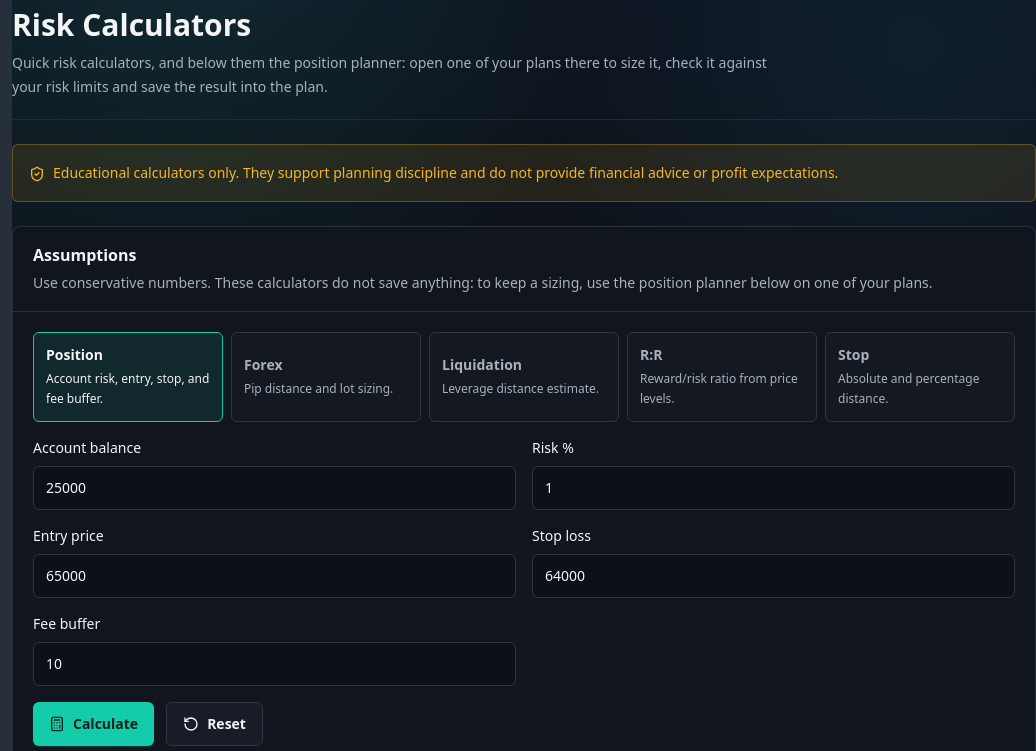
Test case: RiskScreen in Persian › keeps the English warnings on the English page
This screenshot has width=1036, height=751.
Step 1. Click the button "Calculate" → (94, 724), box [33,702,154,746]
(page scrolled)
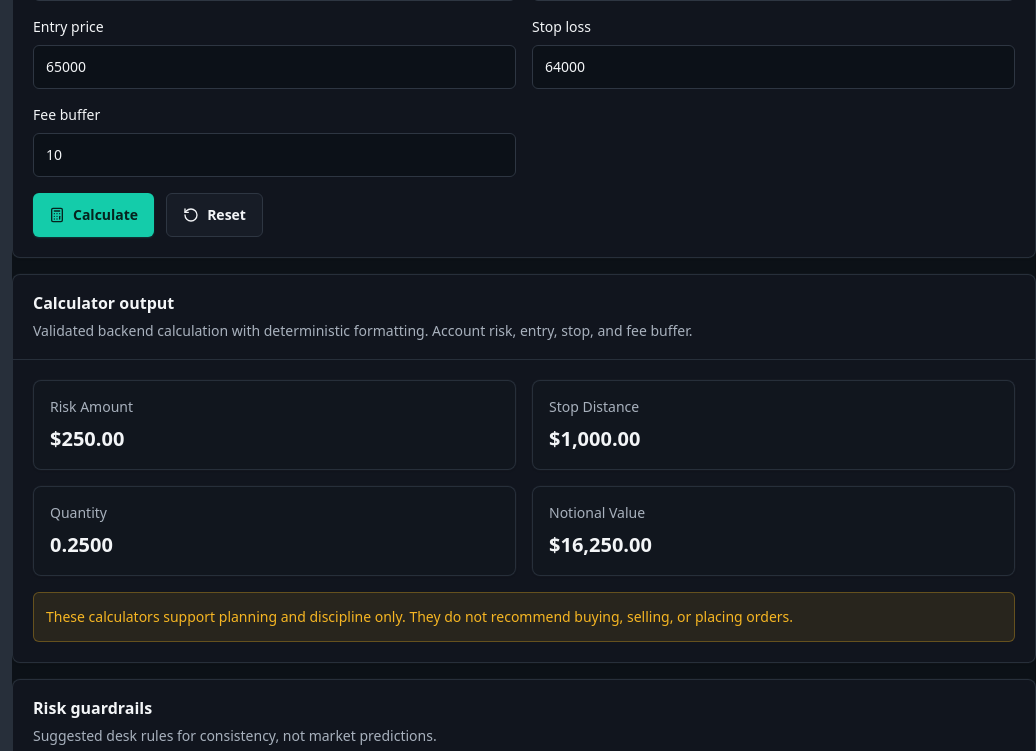
Expected: the text "These calculators support planning and discipline only. They do not recommend buying, selling, or placing orders." is shown, [46,607,793,626]
Expected: the text "Risk Amount" is shown, [50,397,133,416]
